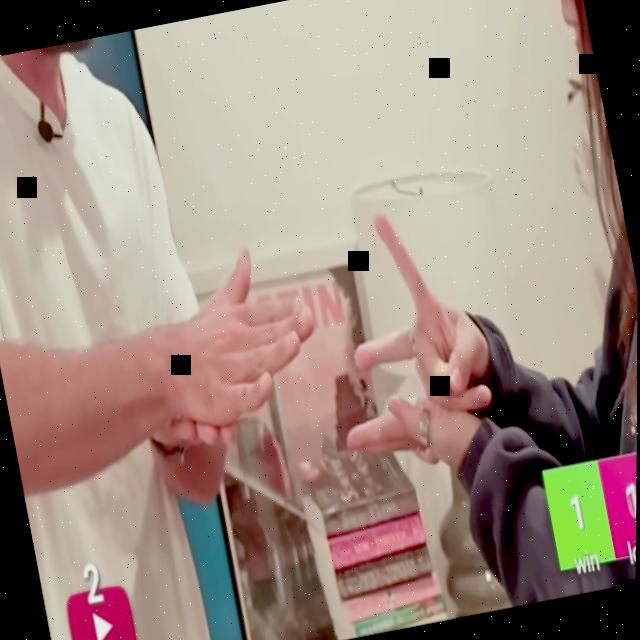Paper: (131, 230, 333, 430)
Scissors: (330, 198, 499, 434)
